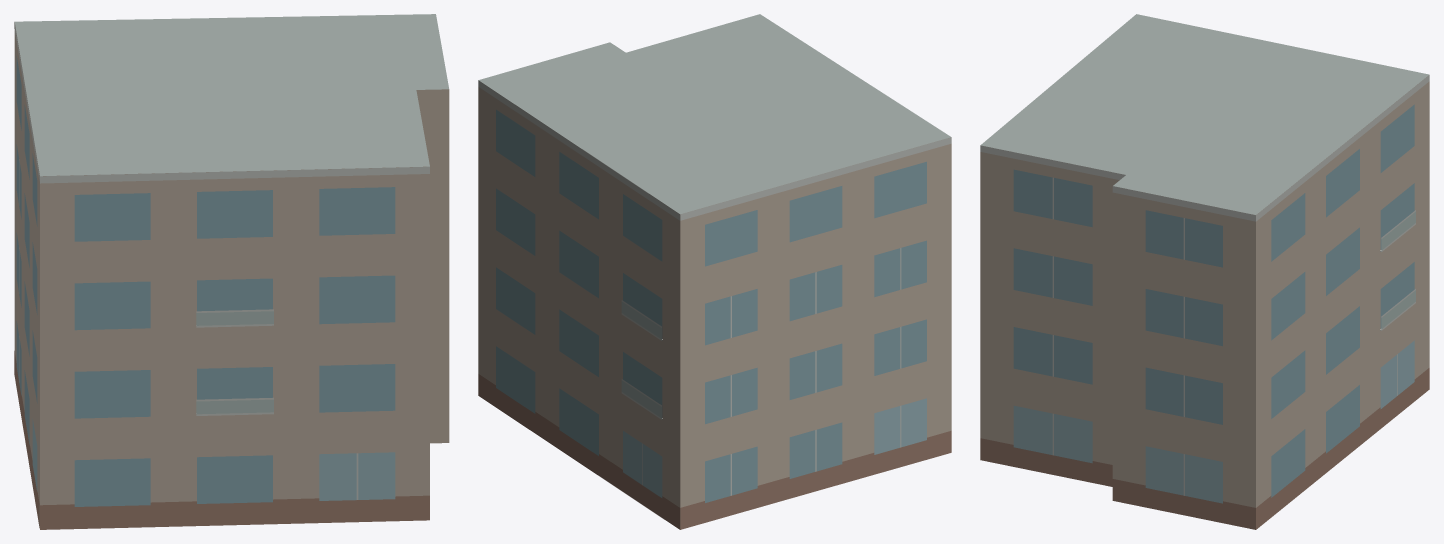
Rendered from survey-upis-32539178.glb.
3 views of the same model, side by side, from view 1: azimuth 30°, elevation 25°; view 2: azimuth 150°, elevation 25°; view 3: azimuth 270°, elevation 25° (orthographic). The views are drawn at different scales.
Parts seen in each view (by area): view 1: survey-upis-32539178.tmp; view 2: survey-upis-32539178.tmp; view 3: survey-upis-32539178.tmp.
Boxes of the visible parts, x1,y1,x2,y2 form: survey-upis-32539178.tmp: (14, 14, 449, 529); survey-upis-32539178.tmp: (478, 14, 951, 529); survey-upis-32539178.tmp: (980, 14, 1429, 529).
Size of the model in its own units: 16.18 by 11.8 by 15.28.
